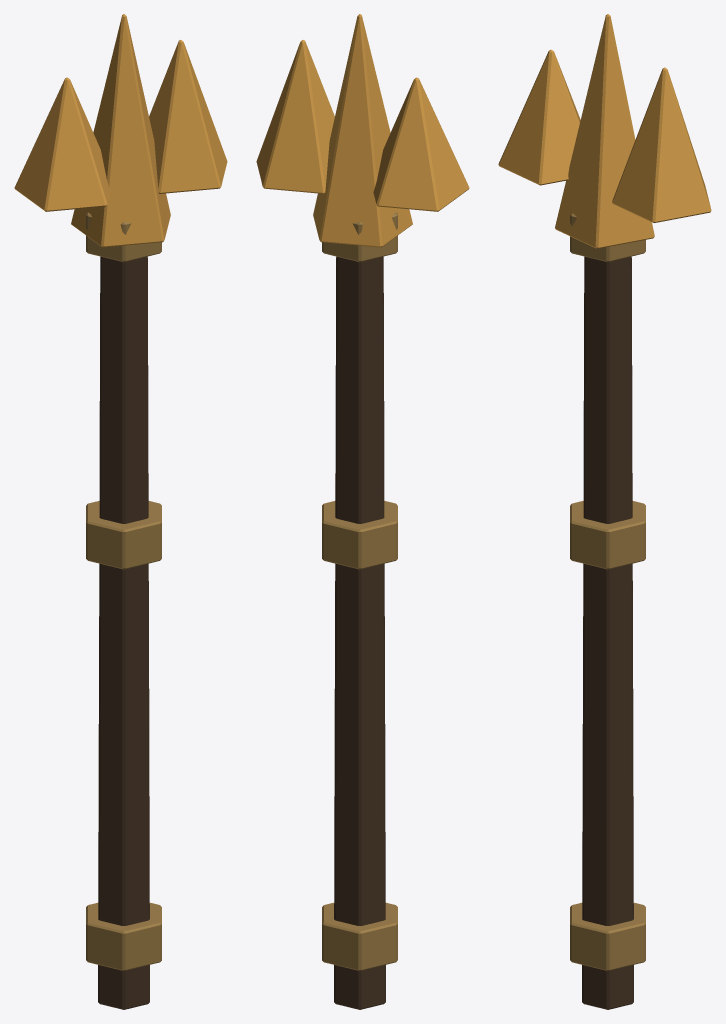
File: mage_fire.glb
3 views of the same model, side by side, from view 1: azimuth 30°, elevation 25°; view 2: azimuth 150°, elevation 25°; view 3: azimuth 330°, elevation 25° (orthographic).
Visible parts, largest first — view 1: weapon.021; view 2: weapon.021; view 3: weapon.021.
Boxes of the visible parts, box(x1,y1,x2,y2) form: weapon.021: box(14, 14, 227, 1009); weapon.021: box(256, 14, 469, 1009); weapon.021: box(498, 14, 711, 1009).
Bounding box in the file's own units: 0.4167 × 1.98 × 0.1868.
